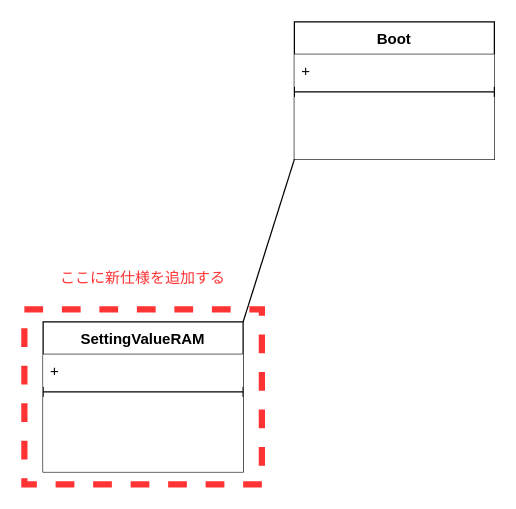
Some shapes in this 516 by 509 pixel diagram are drawn without their labels. Each missing label, with the centre of its shape:
"+ Boot(): + readSettingValue" goes at point (394, 127).
"+ write + read" goes at point (142, 433).
